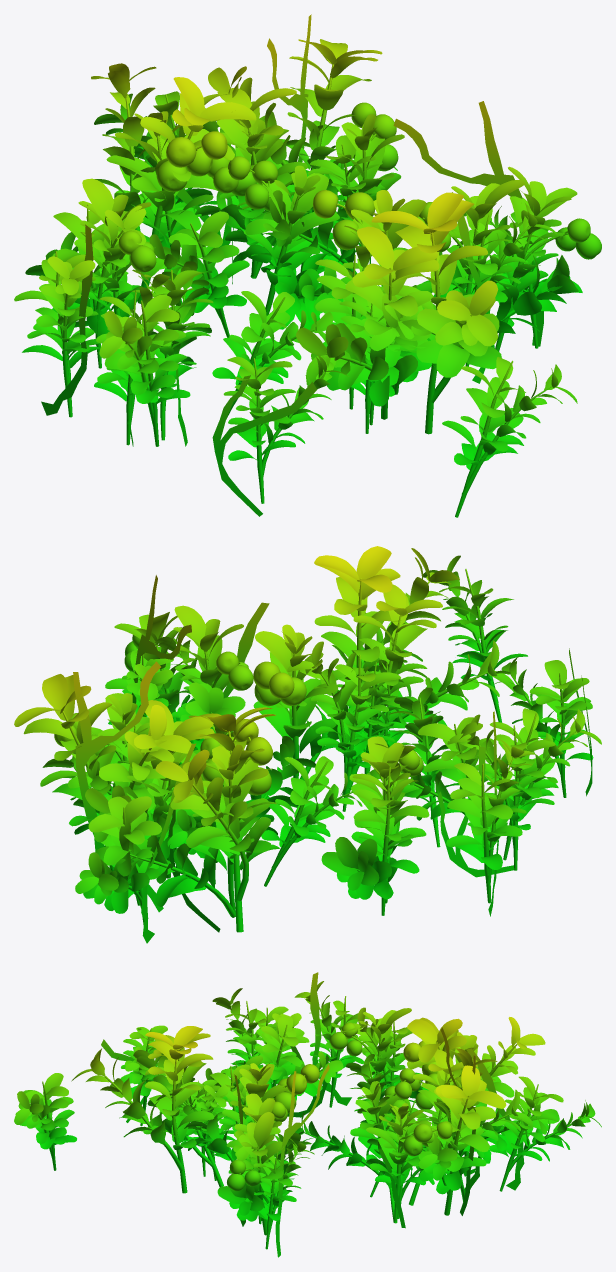
The model's file is Lingonberry_LOD0_Var4_wjhjahlqx.fbx.
The picture shows the model from 3 angles, top to bottom: view 1: azimuth 30°, elevation 25°; view 2: azimuth 150°, elevation 25°; view 3: azimuth 270°, elevation 25°; orthographic projection. The views are drawn at different scales.
Visible parts, largest first — view 1: _10or_Var4_LOD0; view 2: _10or_Var4_LOD0; view 3: _10or_Var4_LOD0.
Part boxes in pixels (left/top/right/bottom): _10or_Var4_LOD0: left=14, top=14, right=601, bottom=517; _10or_Var4_LOD0: left=14, top=546, right=601, bottom=943; _10or_Var4_LOD0: left=14, top=972, right=601, bottom=1257.
Bounding box in the file's own units: 35.29 × 17.29 × 51.26.
